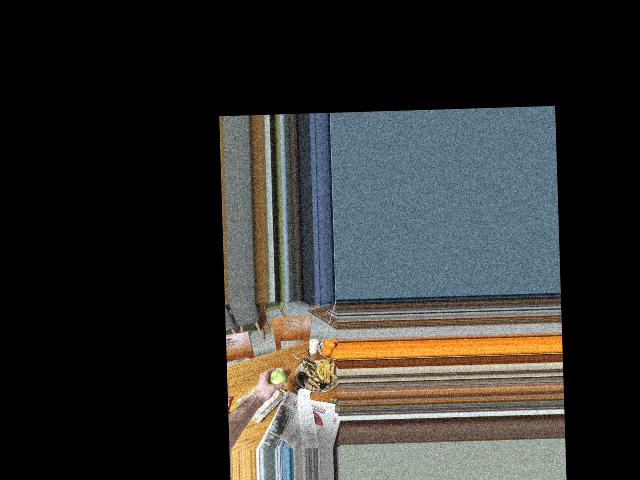apple: (263, 369, 287, 391)
